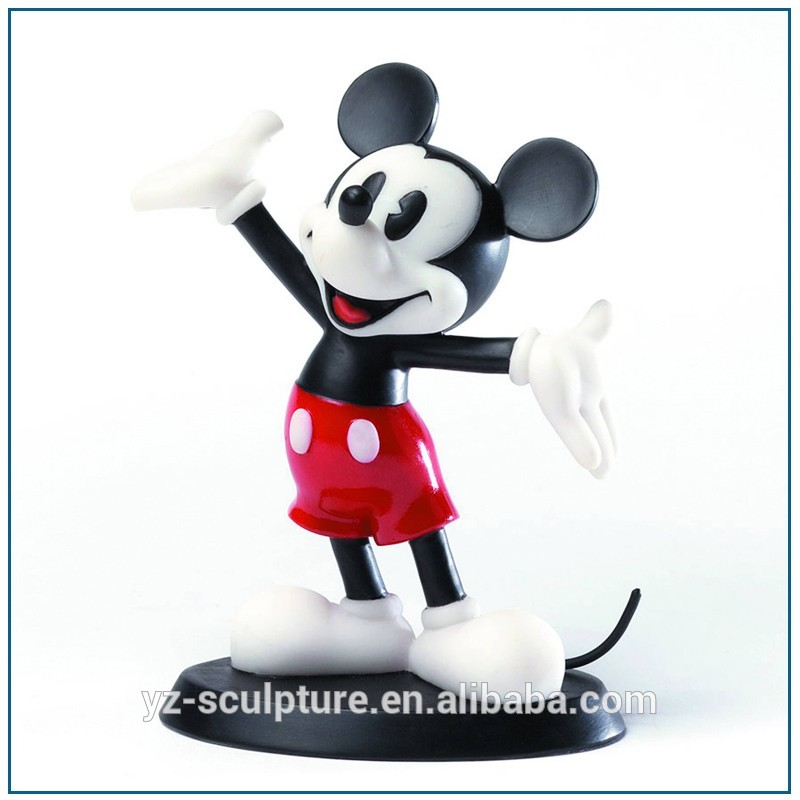Mickey: (288, 51, 599, 342)
